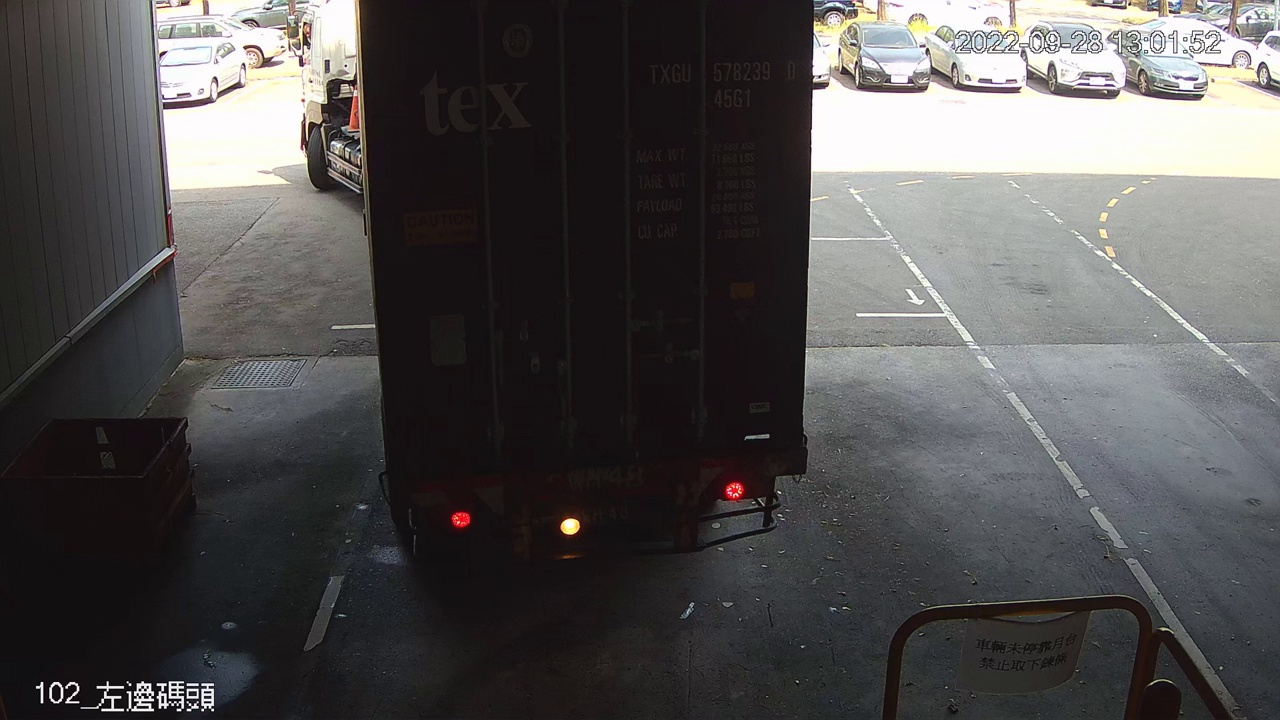container: (642, 54, 801, 115)
